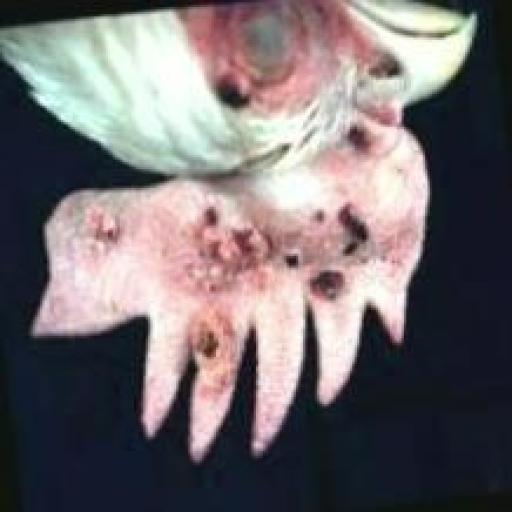disease: (190, 202, 284, 288), (160, 307, 242, 389), (215, 0, 315, 60), (314, 199, 398, 266), (294, 256, 360, 318), (78, 212, 150, 264), (341, 107, 402, 164), (216, 64, 272, 119)
